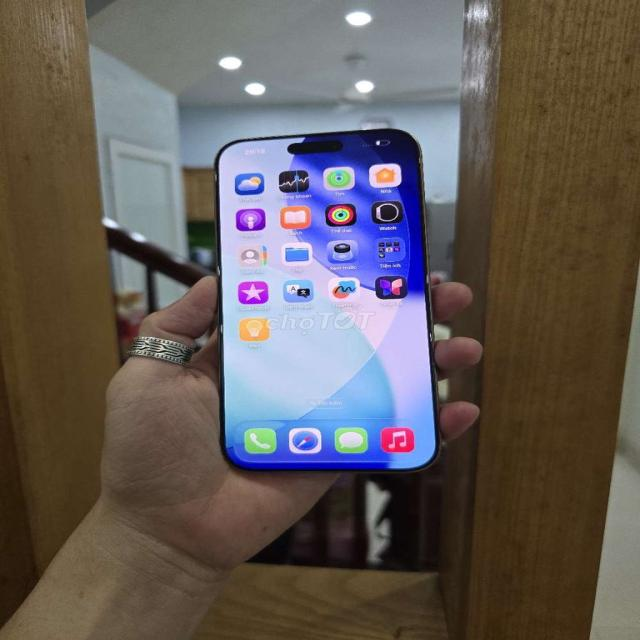gen_16: (192, 123, 459, 488)
